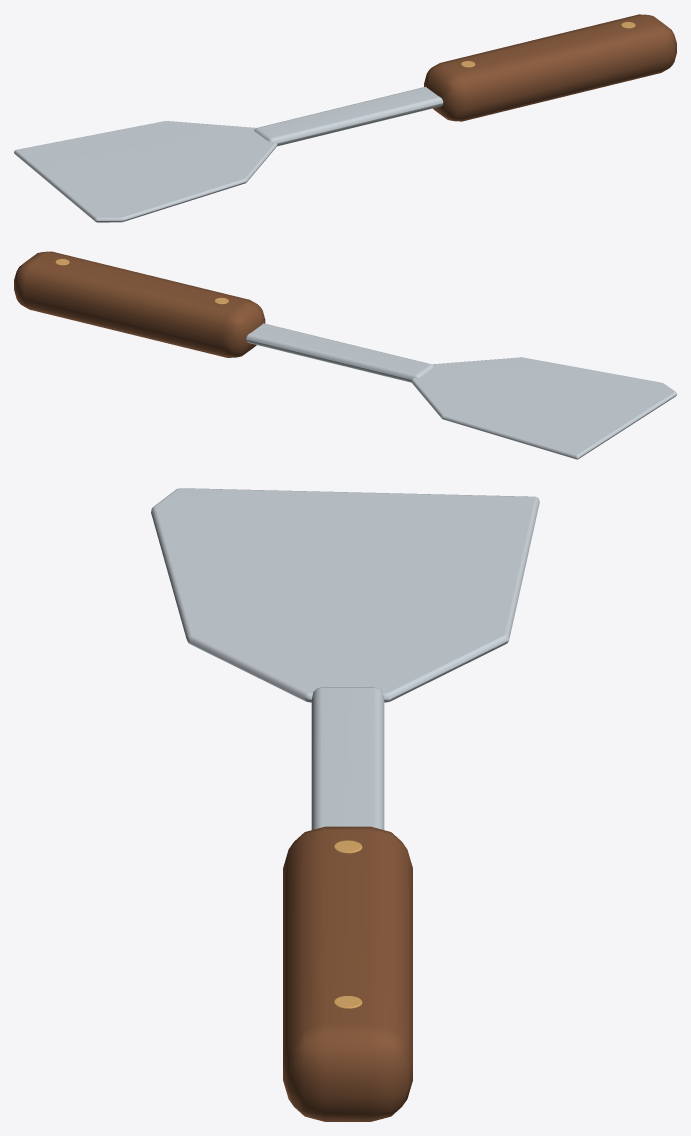
File: Spatula.glb
3 views of the same model, one above another, from view 1: azimuth 30°, elevation 25°; view 2: azimuth 150°, elevation 25°; view 3: azimuth 270°, elevation 25° (orthographic). The views are drawn at different scales.
Visible parts, largest first — view 1: Turner head, Contoured grip.007, Tang; view 2: Turner head, Contoured grip.007, Tang; view 3: Turner head, Contoured grip.007, Tang.
Part boxes in pixels (left/top/right/bottom): Turner head: left=14, top=121, right=277, bottom=222; Contoured grip.007: left=424, top=14, right=676, bottom=121; Tang: left=254, top=86, right=443, bottom=146; Turner head: left=411, top=357, right=676, bottom=459; Contoured grip.007: left=14, top=251, right=265, bottom=357; Tang: left=246, top=323, right=433, bottom=382; Turner head: left=151, top=488, right=539, bottom=702; Contoured grip.007: left=283, top=826, right=412, bottom=1121; Tang: left=311, top=687, right=384, bottom=829.
Bounding box in the file's own units: 0.2719 × 0.0205 × 0.0748.
